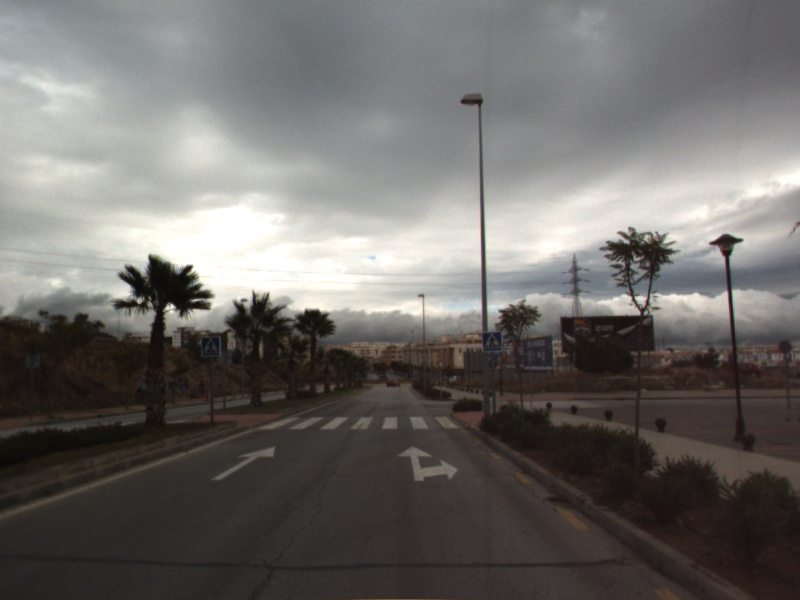STRAIGHT: (210, 444, 277, 482)
STRAIGHT_RIGHT: (395, 444, 460, 483)
